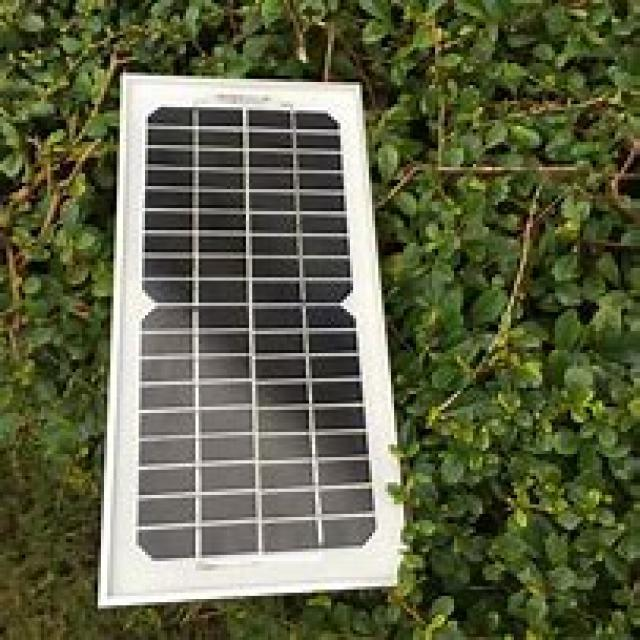no faulty: (106, 74, 401, 606)
